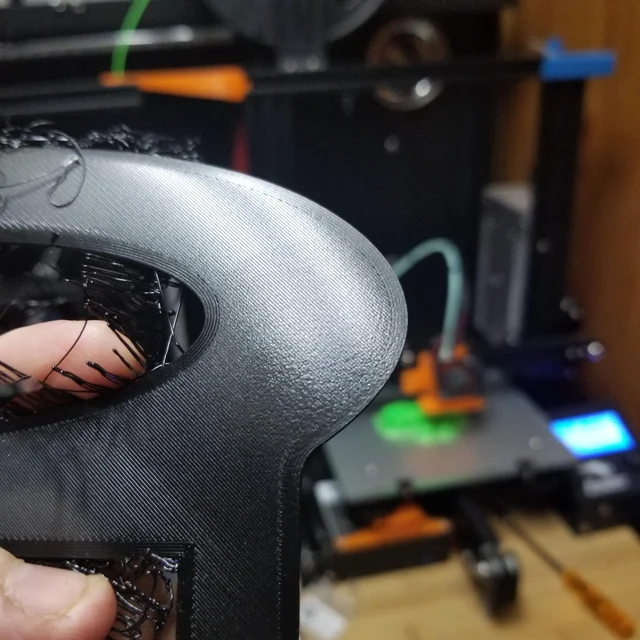Spaghetti: (0, 242, 232, 405), (9, 94, 215, 186), (24, 524, 217, 620)
